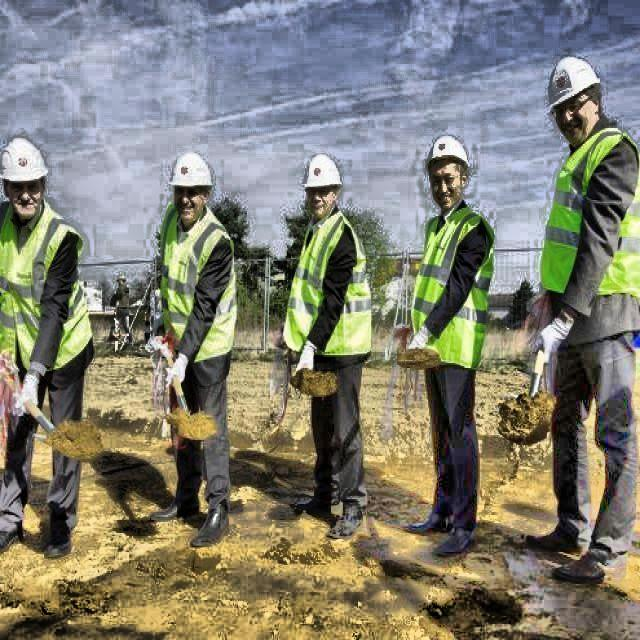safety_jacket: (0, 191, 103, 397), (148, 192, 252, 395), (274, 207, 386, 387), (402, 193, 504, 386)
